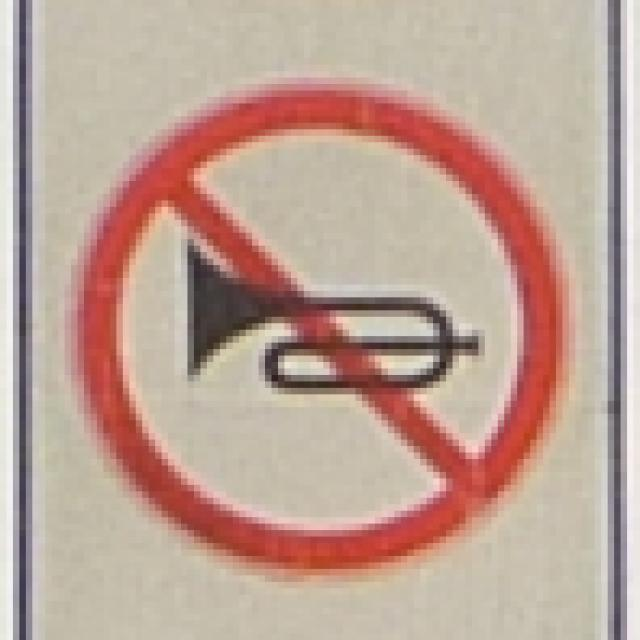No Horn: (76, 88, 545, 582)
